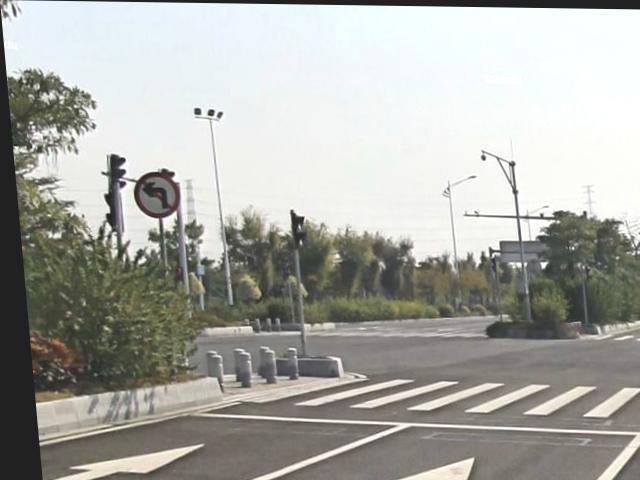not_turn_left: (129, 167, 176, 218)
